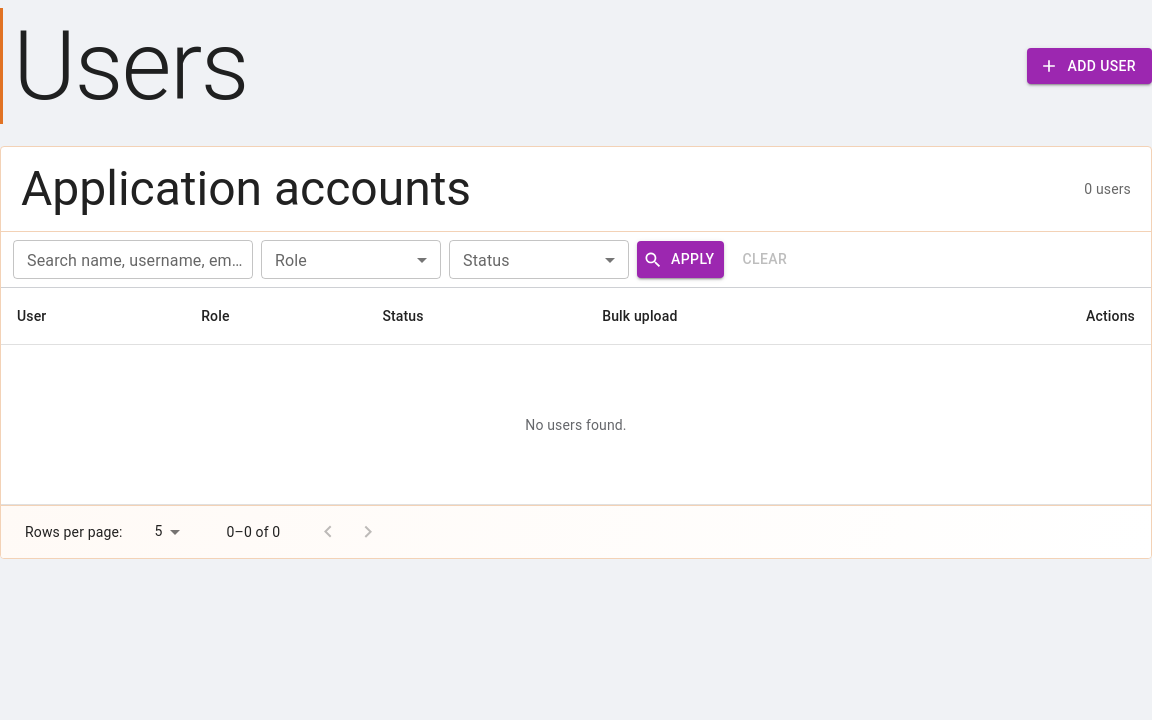
Test case: keeps the account and explains how to retry when credential issuance fails
The width and height of the screenshot is (1152, 720).
Click the button "Add user".
click(1090, 66)  # box [1028,48,1151,84]
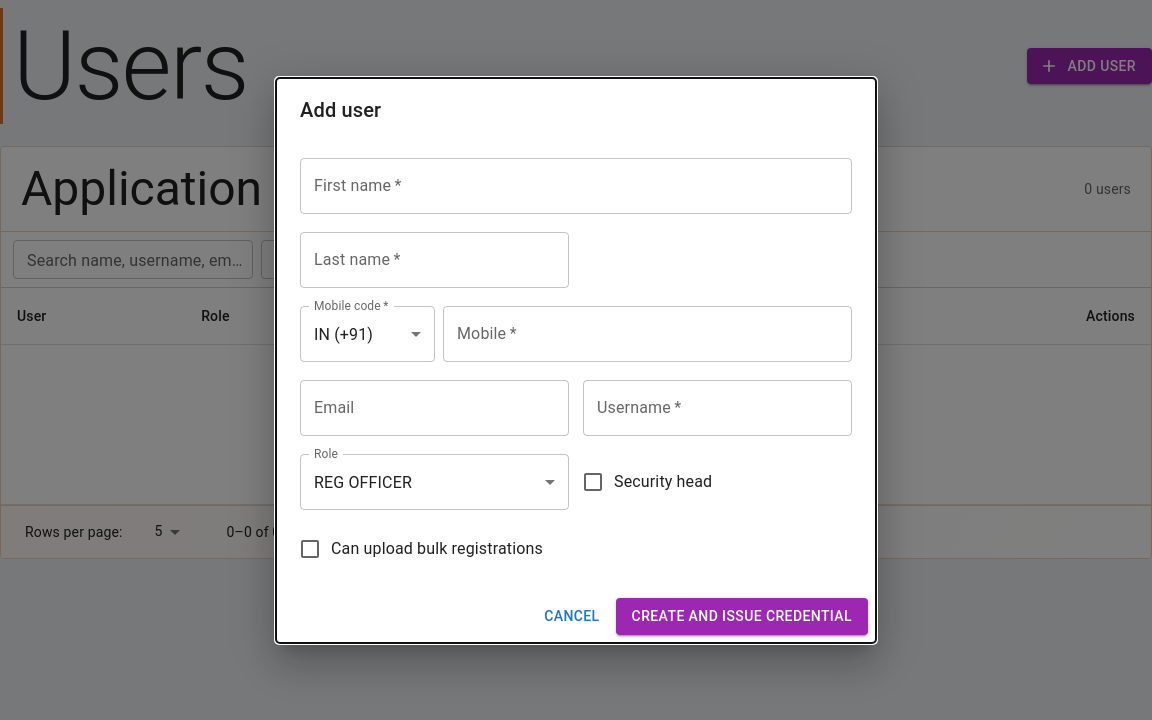
Type "Ravi" into the field labelled "First name *".
click(576, 186); type("Ravi")  # box [300,158,852,214]
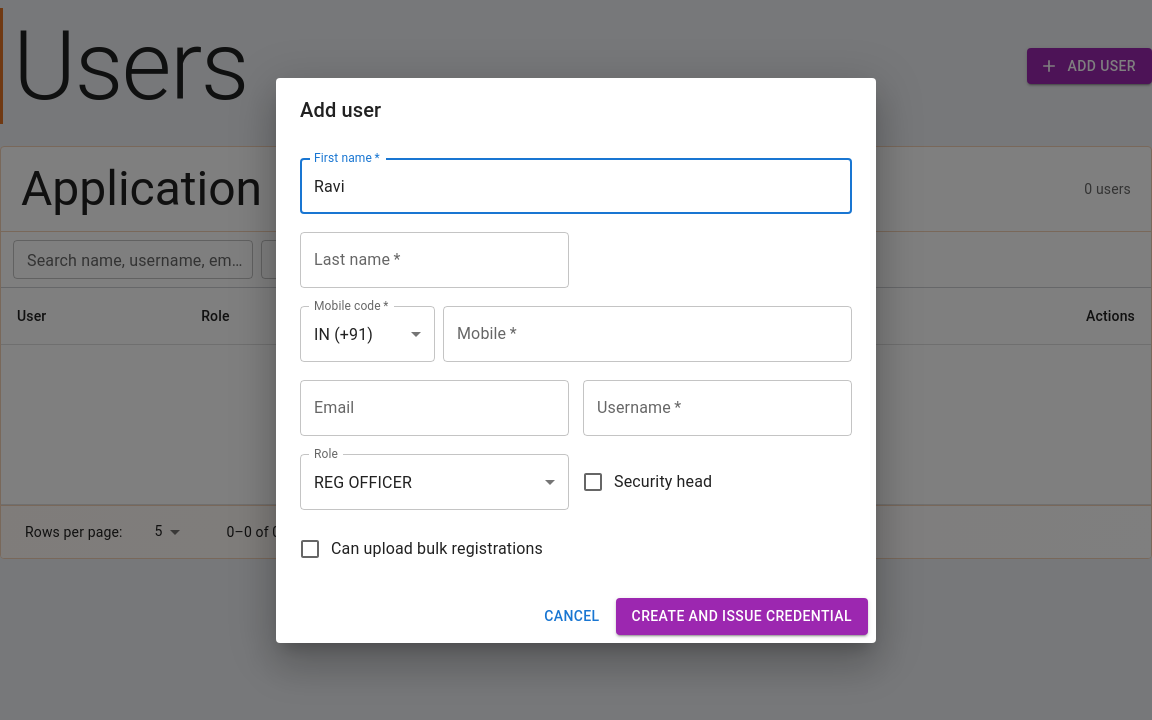
Type "Shah" into the field labelled "Last name *".
click(434, 260); type("Shah")  # box [300,232,569,288]
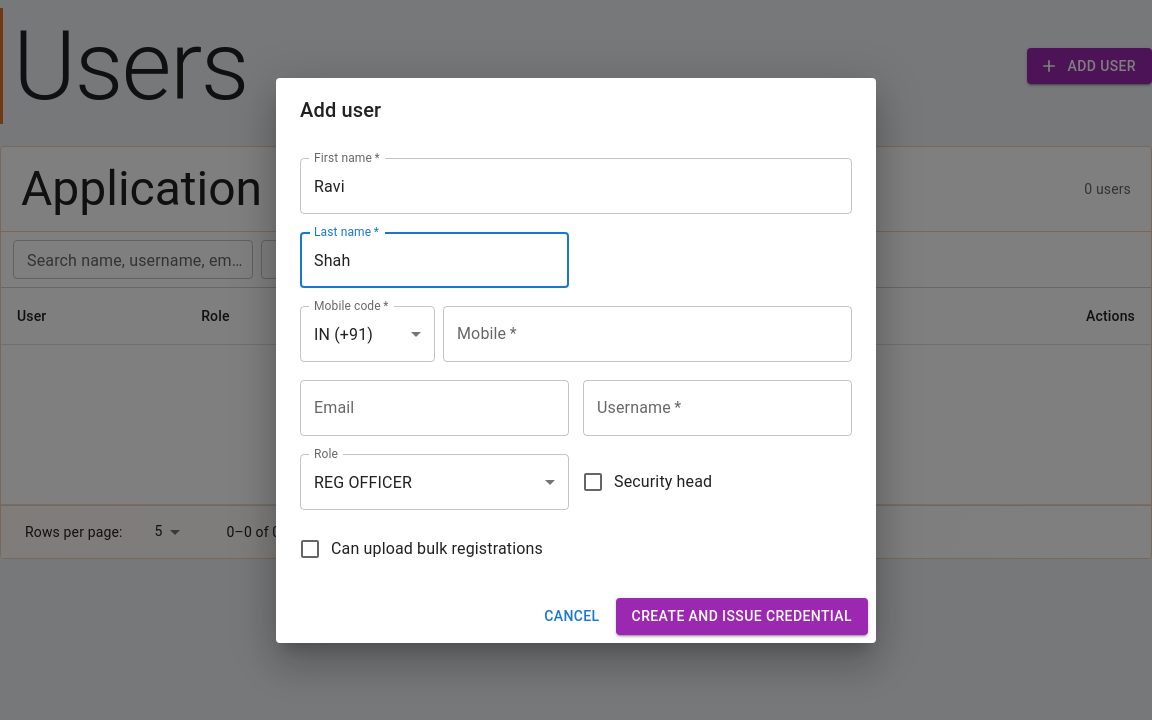
Type "9876543211" into the field labelled "Mobile *".
click(648, 334); type("9876543211")  # box [443,306,852,362]
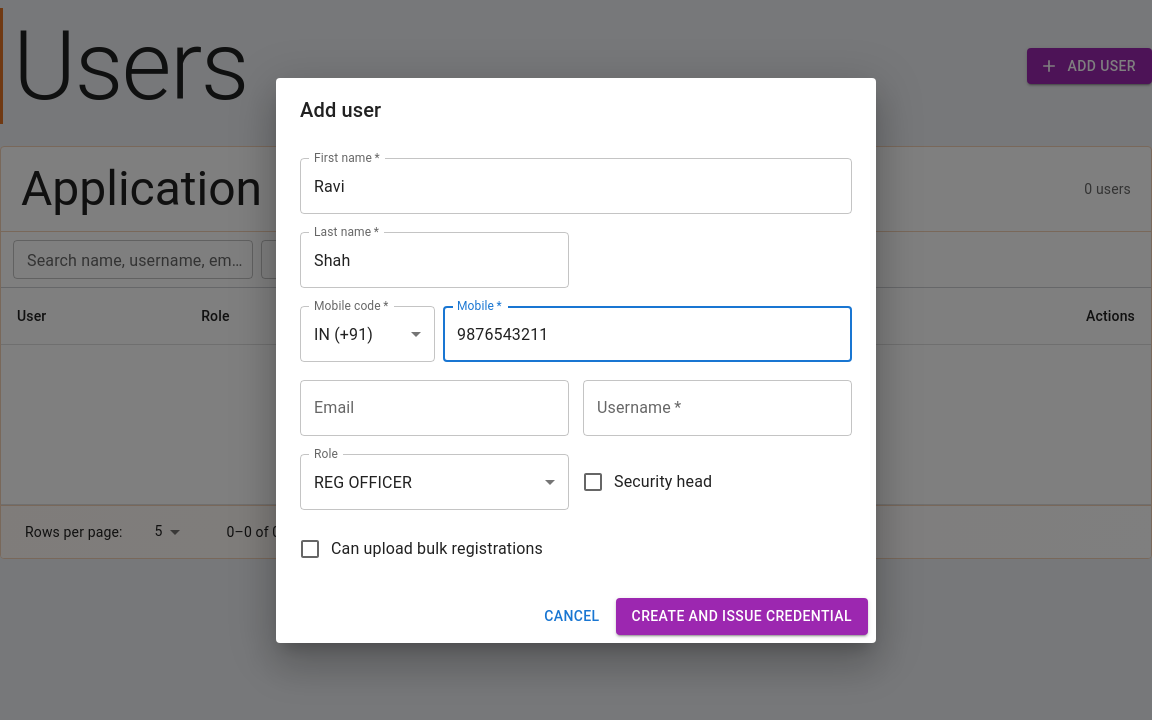
Type "ravi.shah" into the field labelled "Username *".
click(718, 408); type("ravi.shah")  # box [583,380,852,436]
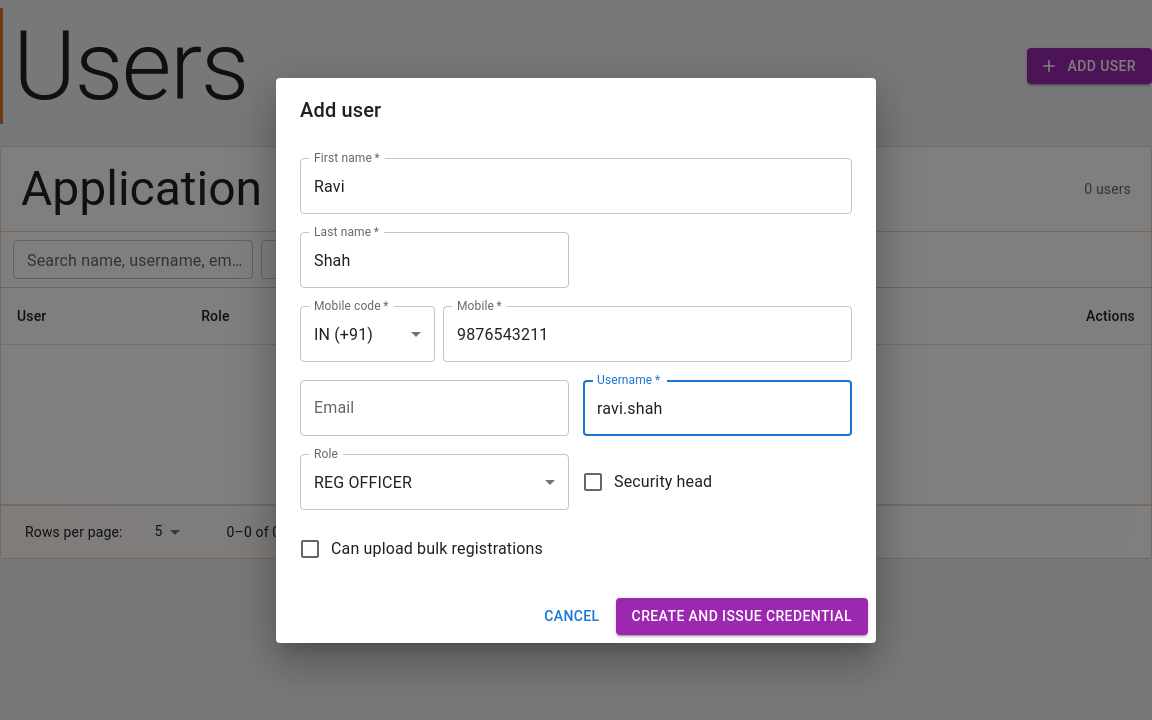
Click the button "Create and issue credential".
click(742, 616)  # box [616,598,868,634]
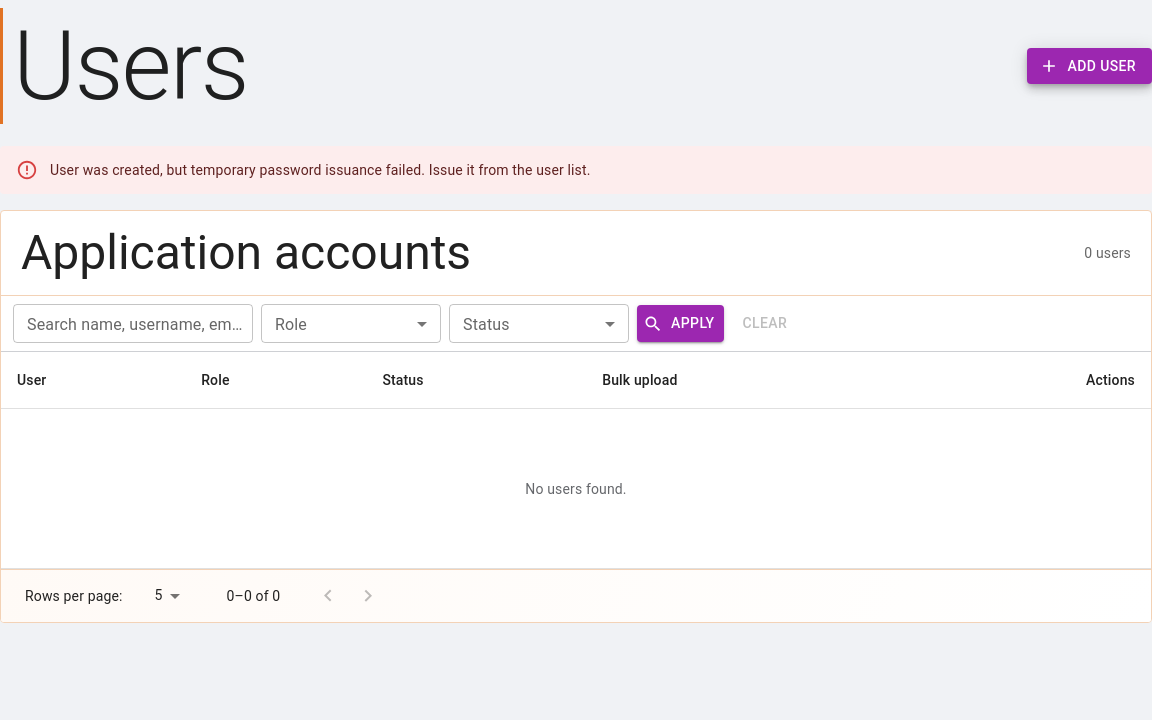
Result: the text "User was created, but temporary password issuance failed" is shown at [50,162,590,178]
